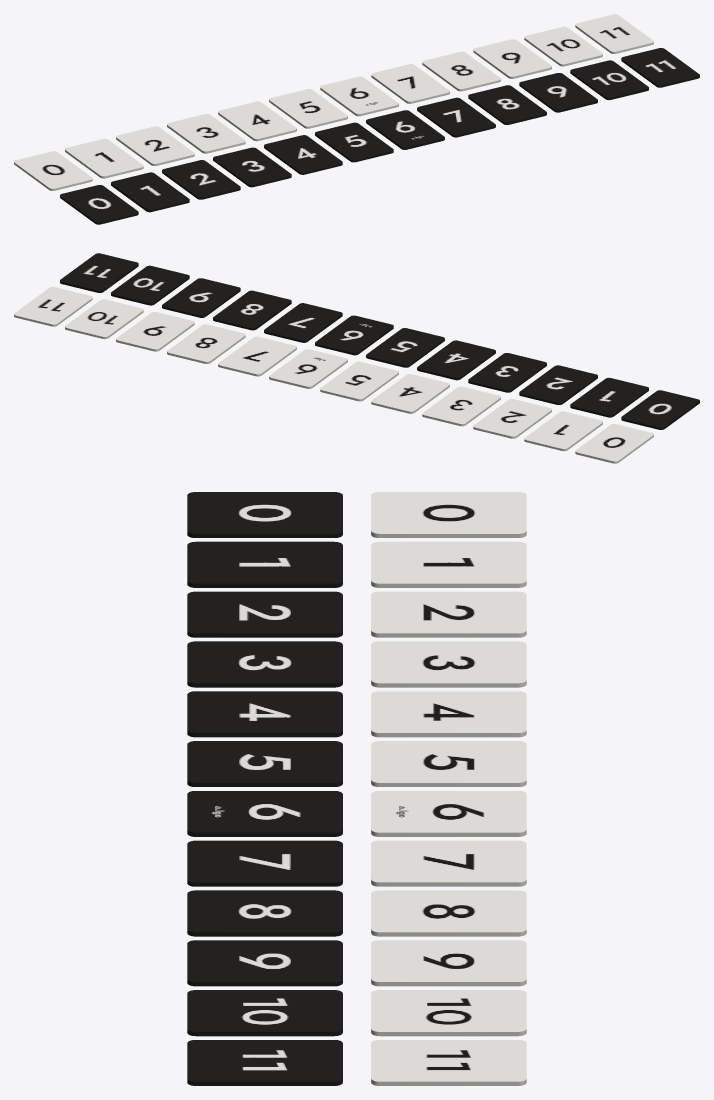
Rendered from algo.glb.
The picture shows the model from 3 angles, top to bottom: view 1: azimuth 30°, elevation 25°; view 2: azimuth 150°, elevation 25°; view 3: azimuth 270°, elevation 25°; orthographic projection. The views are drawn at different scales.
Parts seen in each view (by area): view 1: white_4, white_6, black_5, black_7, white_1, white_3, white_5, white_8, black_3, black_6, black_8, black_10 (+12 smaller); view 2: white_5, white_7, black_4, black_6, white_3, white_6, white_8, white_10, black_1, black_3, black_5, black_8 (+12 smaller); view 3: white_2, white_4, white_7, white_9, black_2, black_4, black_7, black_9, white_1, white_3, white_8, white_10 (+12 smaller).
Boxes of the visible parts, x1=… form: white_4: x1=218, y1=101, x2=296, y2=141; white_6: x1=320, y1=76, x2=398, y2=116; black_5: x1=315, y1=122, x2=393, y2=162; black_7: x1=417, y1=97, x2=495, y2=137; white_1: x1=65, y1=138, x2=143, y2=178; white_3: x1=167, y1=114, x2=245, y2=153; white_5: x1=269, y1=89, x2=347, y2=128; white_8: x1=422, y1=51, x2=500, y2=91; black_3: x1=213, y1=147, x2=291, y2=187; black_6: x1=366, y1=110, x2=444, y2=149; black_8: x1=468, y1=85, x2=546, y2=124; black_10: x1=570, y1=60, x2=648, y2=100; white_5: x1=320, y1=361, x2=398, y2=401; white_7: x1=218, y1=336, x2=296, y2=376; black_4: x1=417, y1=340, x2=495, y2=380; black_6: x1=315, y1=315, x2=393, y2=355; white_3: x1=422, y1=386, x2=500, y2=426; white_6: x1=269, y1=349, x2=347, y2=388; white_8: x1=167, y1=324, x2=245, y2=363; white_10: x1=65, y1=299, x2=143, y2=339; black_1: x1=570, y1=377, x2=648, y2=417; black_3: x1=468, y1=353, x2=546, y2=392; black_5: x1=366, y1=328, x2=444, y2=367; black_8: x1=213, y1=290, x2=291, y2=330; white_2: x1=371, y1=591, x2=526, y2=637; white_4: x1=371, y1=691, x2=526, y2=737; white_7: x1=371, y1=840, x2=526, y2=886; white_9: x1=371, y1=940, x2=526, y2=986; black_2: x1=187, y1=591, x2=342, y2=637; black_4: x1=187, y1=691, x2=342, y2=737; black_7: x1=187, y1=840, x2=342, y2=886; black_9: x1=187, y1=940, x2=342, y2=986; white_1: x1=371, y1=541, x2=526, y2=587; white_3: x1=371, y1=641, x2=526, y2=687; white_8: x1=371, y1=890, x2=526, y2=936; white_10: x1=371, y1=990, x2=526, y2=1036.
Bounding box in the file's own units: 0.592 × 0.002 × 0.144.
48 materials, 24 textured.
